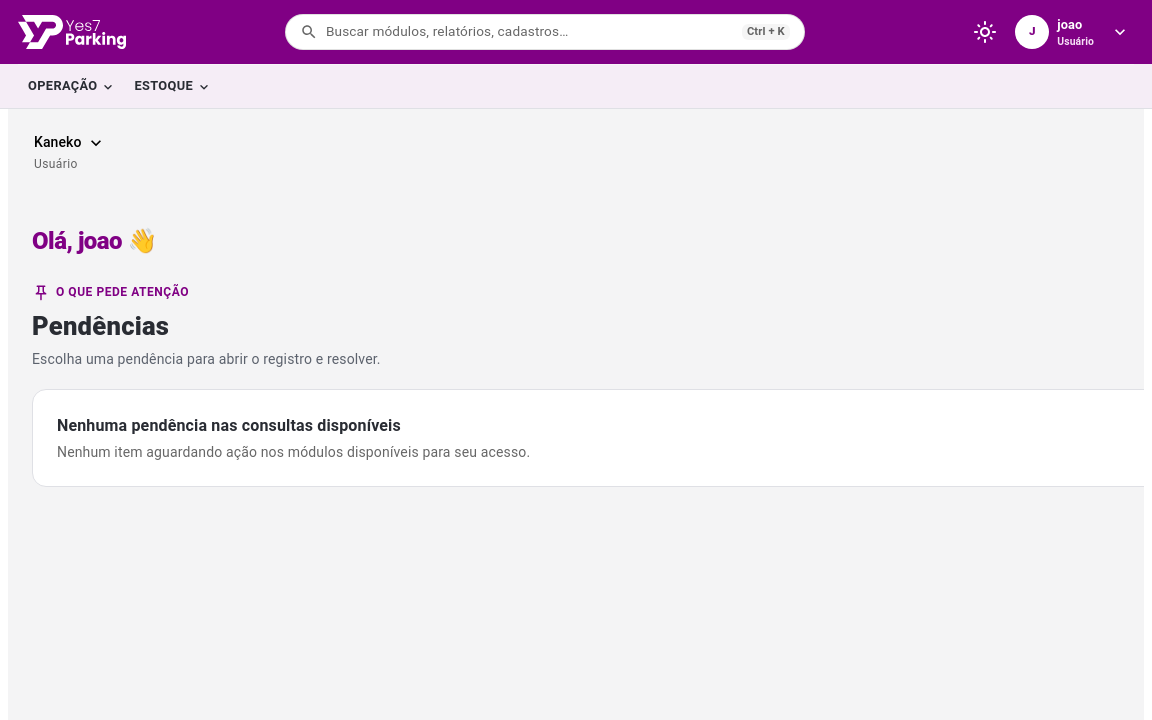
it: home do Hub › menu superior continua navegável (mobile=false)
The image size is (1152, 720).
Click the button "Estoque" at {"x": 171, "y": 86}, box top-left (124, 66), bottom-right (218, 106)
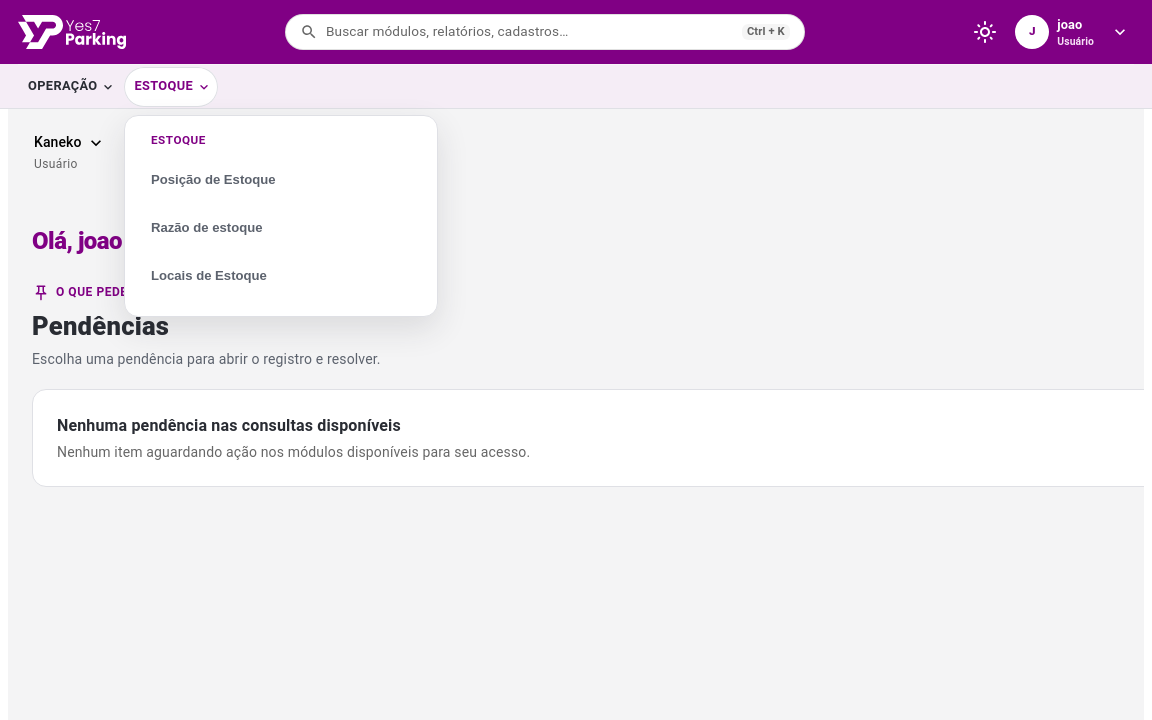
Click the link "Posição de Estoque" at {"x": 213, "y": 180}, box top-left (151, 172), bottom-right (276, 187)
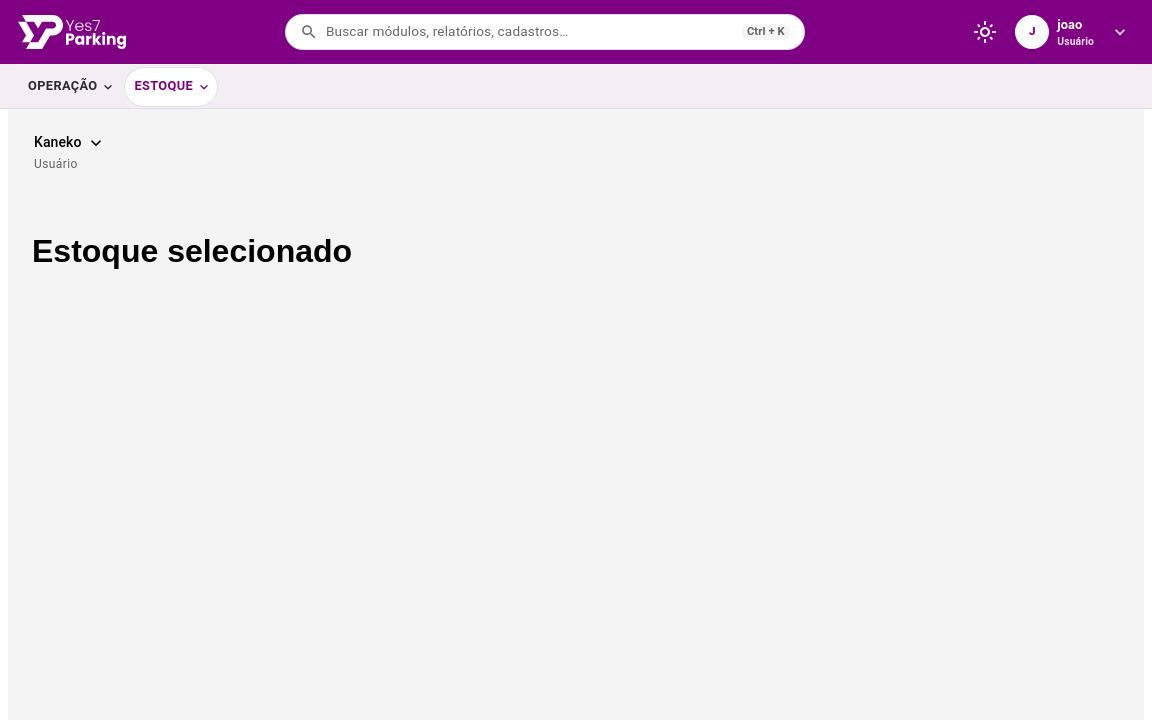
Check: the heading "Estoque selecionado" is shown, box top-left (32, 232), bottom-right (352, 268)
